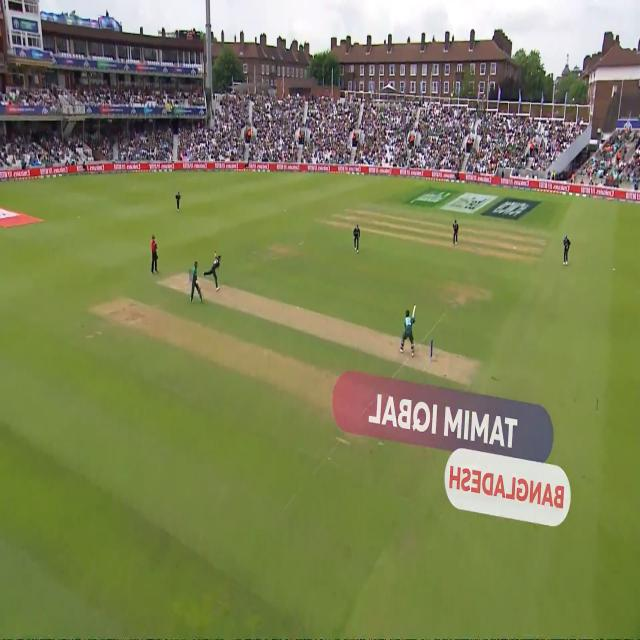ball: (294, 301, 300, 315)
